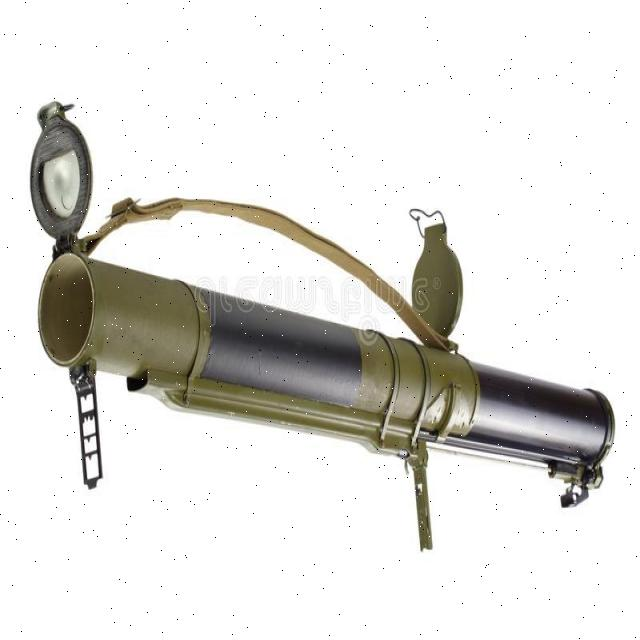bazooka: (22, 85, 622, 557)
